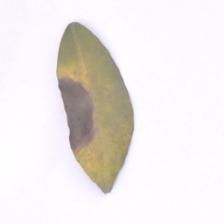black spot: (41, 71, 105, 161)
